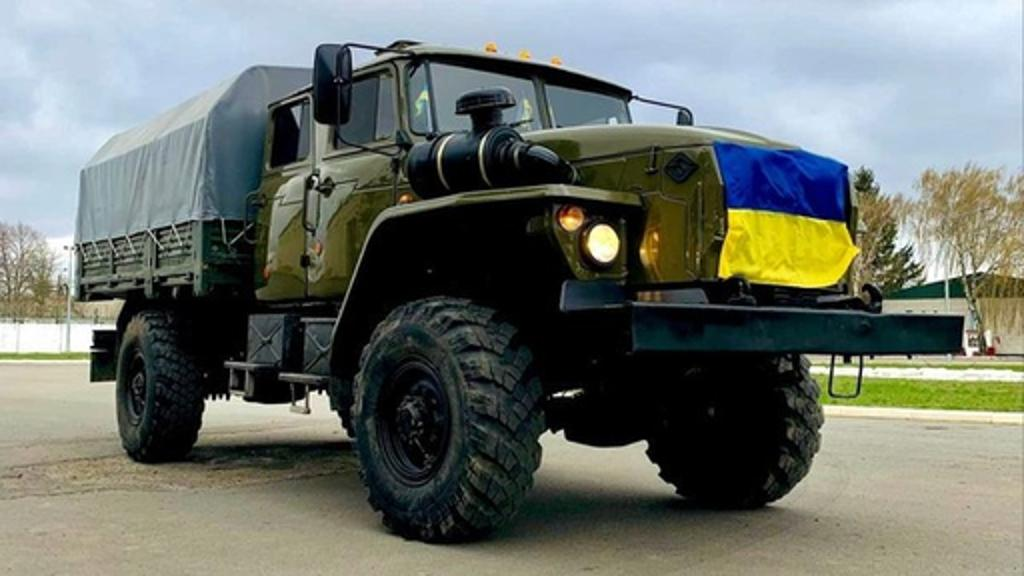TRUCK: (62, 26, 966, 556)
